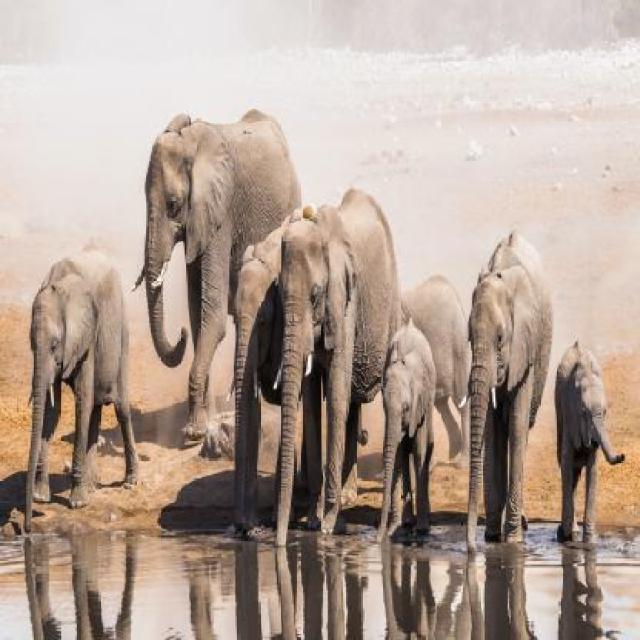Elephant: (133, 97, 307, 446), (271, 181, 404, 564), (22, 235, 142, 534), (457, 226, 554, 549), (228, 227, 283, 556), (554, 336, 626, 547), (374, 313, 438, 547)
